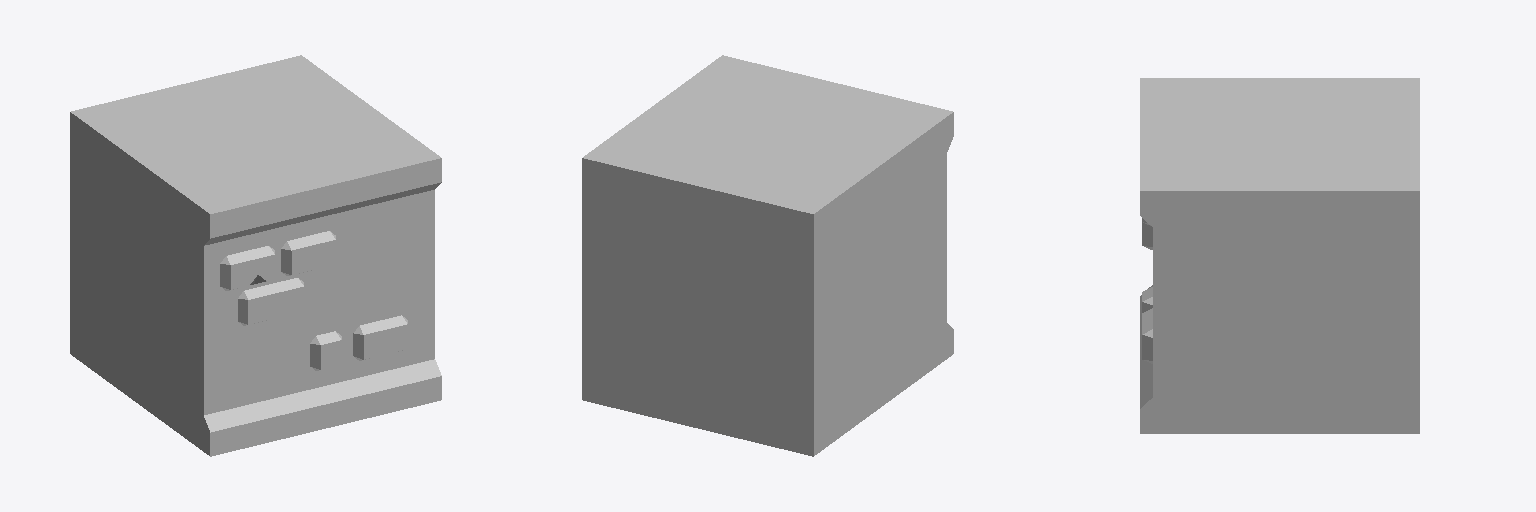
File: floor_foundation_front.obj
3 renders of one model, left to right at view 1: azimuth 30°, elevation 25°; view 2: azimuth 150°, elevation 25°; view 3: azimuth 270°, elevation 25°, orthographic.
Visible parts, largest first — view 1: floor_foundation_front; view 2: floor_foundation_front; view 3: floor_foundation_front.
Part boxes in pixels (x1,y1,x2,y2): floor_foundation_front: (70,55,441,456); floor_foundation_front: (582,55,953,456); floor_foundation_front: (1140,78,1419,433).
Size of the model in its own units: 2 by 2 by 2.1.